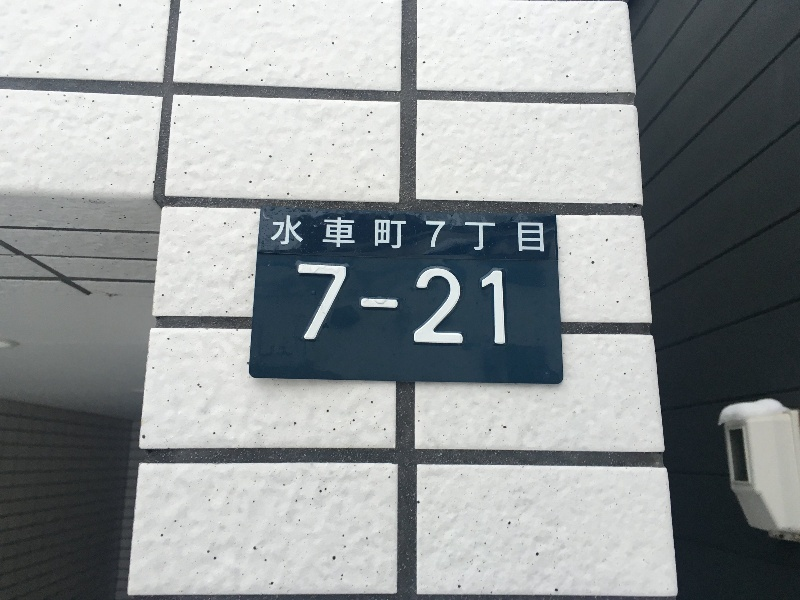text: (305, 263, 320, 346), (321, 263, 336, 346), (337, 263, 352, 346), (353, 263, 368, 346), (369, 263, 384, 346), (385, 263, 400, 346), (401, 263, 416, 346), (417, 263, 432, 346), (433, 263, 448, 346), (449, 263, 464, 346), (465, 263, 480, 346), (481, 263, 496, 346), (497, 263, 508, 346), (273, 212, 288, 257), (289, 212, 304, 257), (305, 212, 320, 257), (321, 212, 336, 257), (337, 212, 352, 257), (353, 212, 368, 257), (369, 212, 384, 257), (385, 212, 400, 257), (401, 212, 416, 257), (417, 212, 432, 257), (433, 212, 448, 257), (449, 212, 464, 257), (465, 212, 480, 257), (481, 212, 496, 257), (497, 212, 512, 257), (513, 212, 528, 257), (529, 212, 544, 257), (297, 263, 304, 346), (545, 212, 548, 257)
